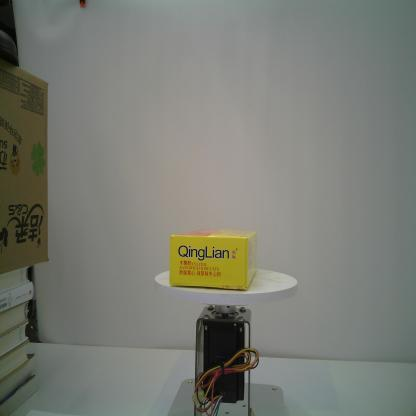Dessert: (167, 228, 258, 291)
